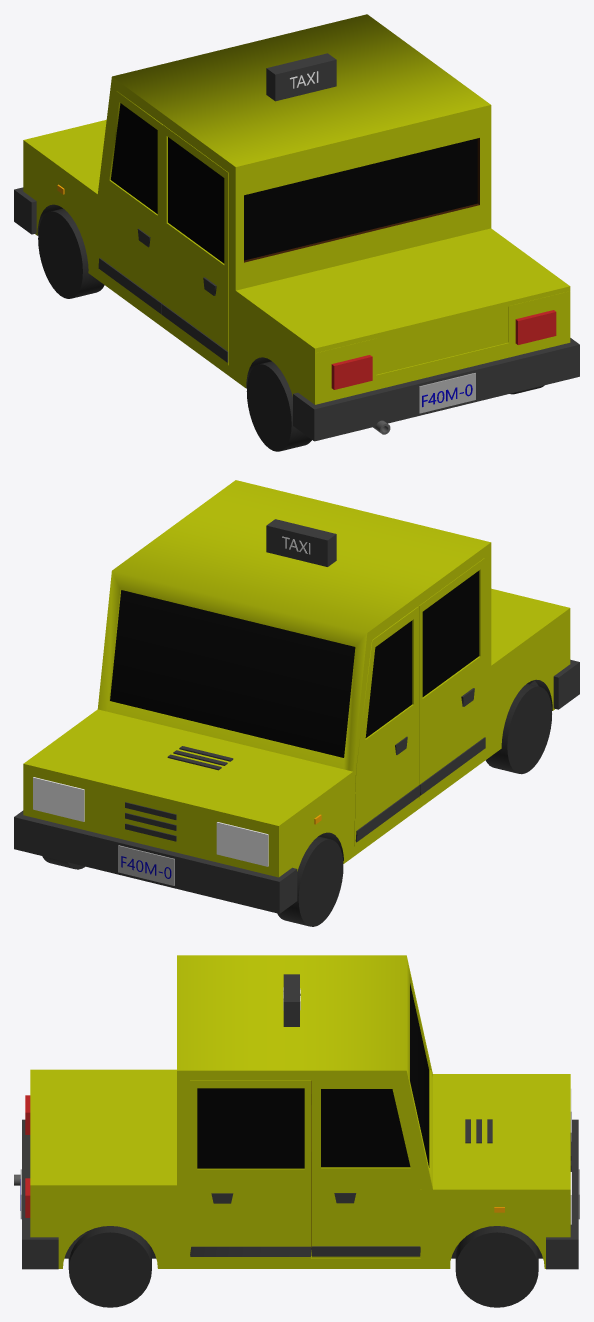
File: Taxi.fbx
The picture shows the model from 3 angles, top to bottom: view 1: azimuth 30°, elevation 25°; view 2: azimuth 150°, elevation 25°; view 3: azimuth 270°, elevation 25°; orthographic projection. The views are drawn at different scales.
Visible parts, largest first — view 1: Body, Openthing, BackWindow, BAgagliaio, Paraurti_1, Cofano_1, BackDoor_2, FrontDoor_2, Window_4, Wheel_2_2, Window_5, Wheel_1 (+7 smaller); view 2: Body, Cofano_1, Window, Paraurti, FrontDoor_2, BackDoor_2, BAgagliaio, Window_4, Wheel_1, Window_5, Wheel_2_2, Openthing (+9 smaller); view 3: Body, Cofano_1, Openthing, BackDoor, FrontDoor, Window_2, BAgagliaio, Window_3, Wheel_1_2, Wheel_2, Paraurti_1, Window (+4 smaller).
Part boxes in pixels (<box>): Body: <box>88,14,491,375</box>; Openthing: <box>235,228,570,374</box>; BackWindow: <box>244,138,477,260</box>; BAgagliaio: <box>229,291,570,404</box>; Paraurti_1: <box>293,338,579,441</box>; Cofano_1: <box>23,120,106,280</box>; BackDoor_2: <box>163,125,228,365</box>; FrontDoor_2: <box>98,91,162,317</box>; Window_4: <box>168,137,224,263</box>; Wheel_2_2: <box>38,208,104,298</box>; Window_5: <box>111,103,157,213</box>; Wheel_1: <box>246,361,311,451</box>; Body: <box>97,480,491,863</box>; Cofano_1: <box>23,709,359,877</box>; Window: <box>110,590,355,757</box>; Paraurti: <box>14,810,297,913</box>; FrontDoor_2: <box>354,606,418,846</box>; BackDoor_2: <box>418,558,484,798</box>; BAgagliaio: <box>484,613,570,760</box>; Window_4: <box>422,570,479,696</box>; Wheel_1: <box>485,683,551,774</box>; Window_5: <box>365,620,412,737</box>; Wheel_2_2: <box>277,836,343,926</box>; Openthing: <box>490,588,570,670</box>; Body: <box>177,955,450,1268</box>; Cofano_1: <box>420,1074,570,1268</box>; Openthing: <box>30,1069,177,1189</box>; BackDoor: <box>190,1080,311,1259</box>; FrontDoor: <box>311,1080,421,1258</box>; Window_2: <box>197,1088,304,1168</box>; BAgagliaio: <box>30,1189,189,1268</box>; Window_3: <box>321,1089,410,1167</box>; Wheel_1_2: <box>455,1226,538,1307</box>; Wheel_2: <box>68,1226,151,1307</box>; Paraurti_1: <box>22,1119,87,1269</box>; Window: <box>410,983,429,1167</box>.
Bounding box in the file's own units: 260 × 263 × 518.
